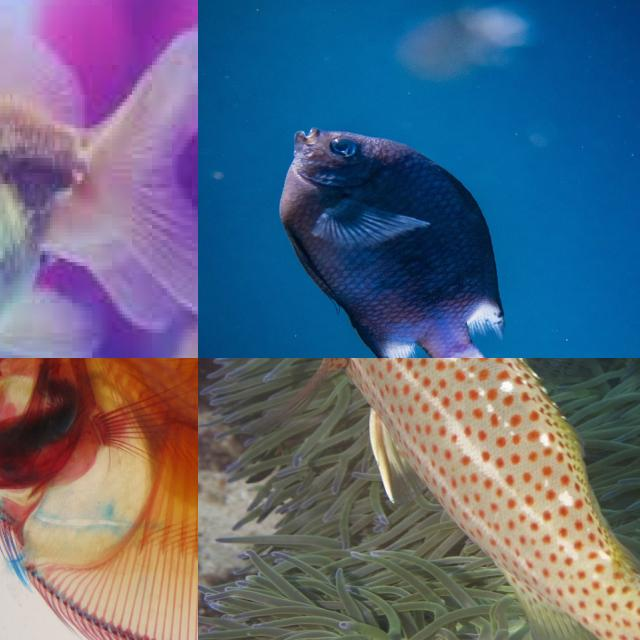fish: (198, 358, 640, 640), (369, 92, 640, 358), (0, 0, 198, 358), (0, 358, 198, 640)
